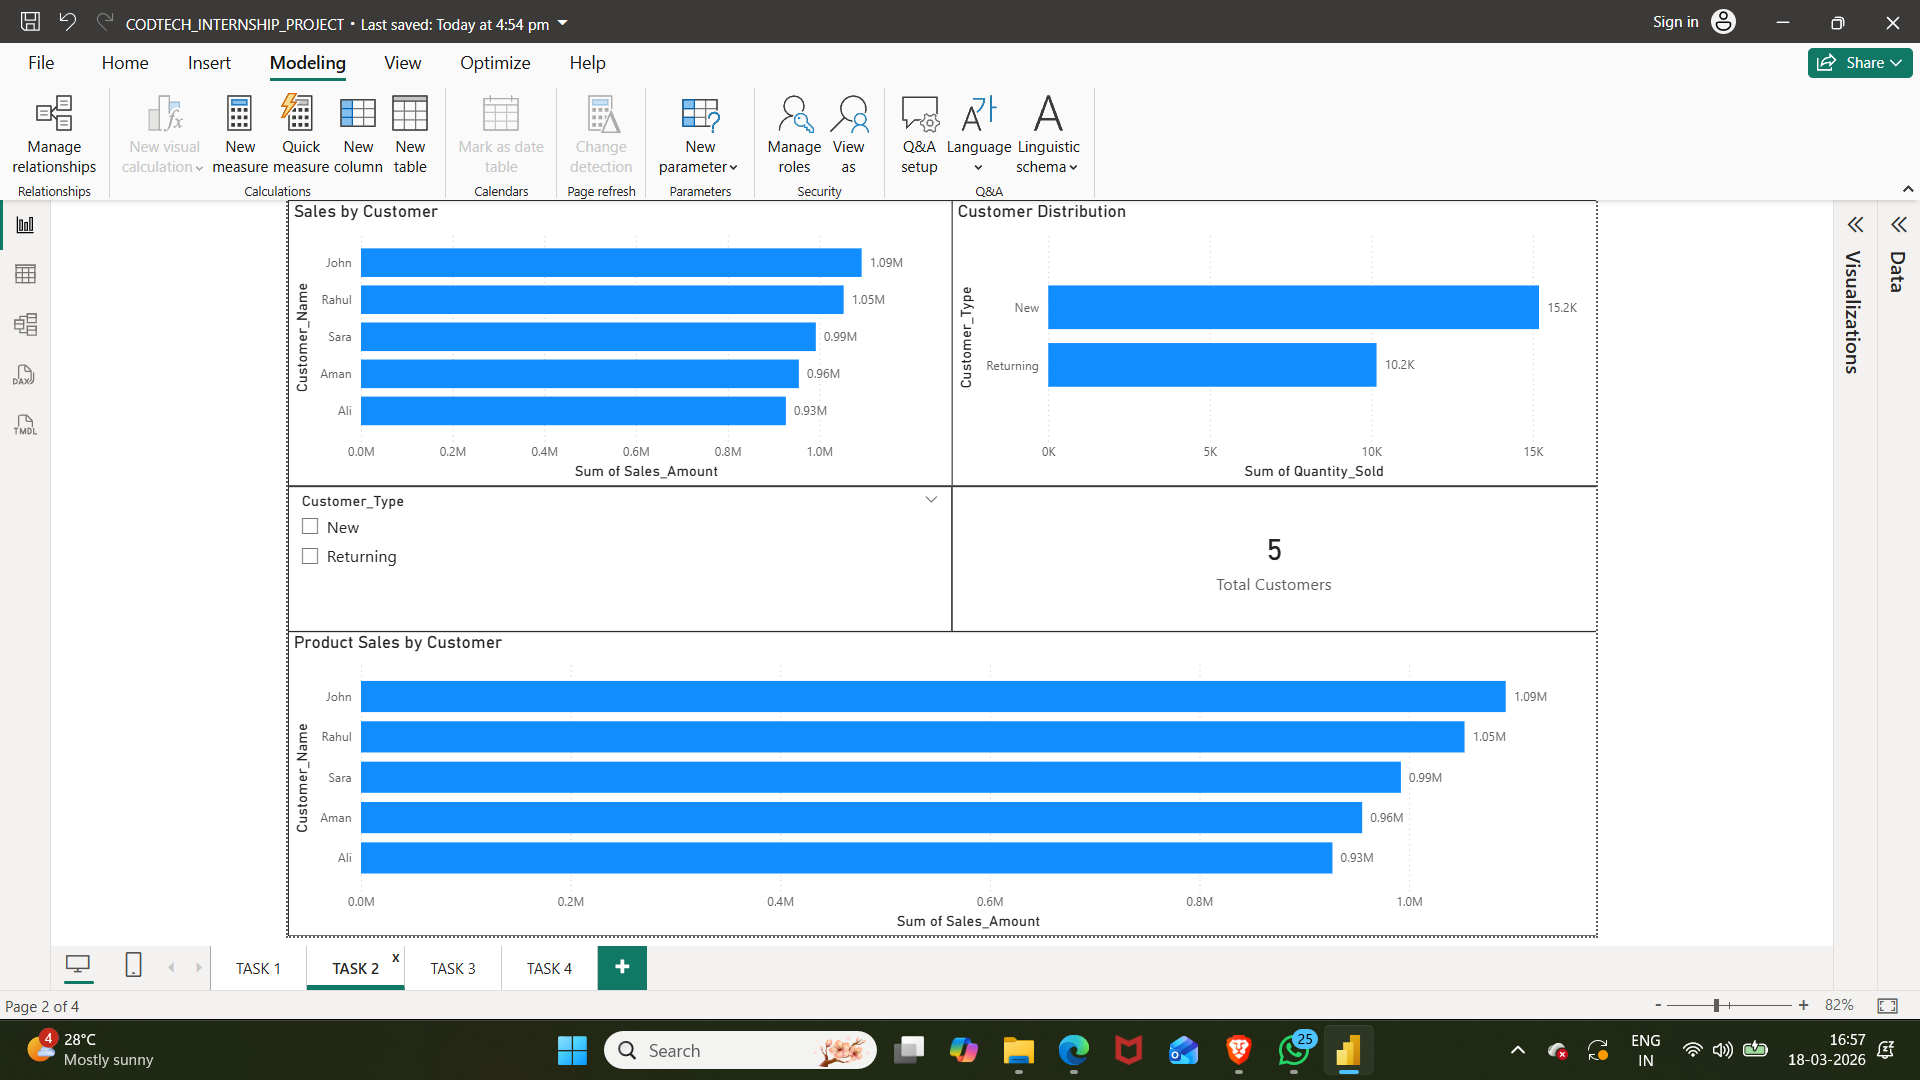

The dashboard page shown, as its layout file describes it:
{"tool":"powerbi","page":{"name":"TASK 2","canvas":[1280,720],"ordinal":1},"visuals":[{"type":"clusteredBarChart","title":"Sales by Customer","fields":{"Y":["Sum(sales_data.Sales_Amount)"],"Category":["Sheet1.Customer_Name"]},"box":[0,0,650.4,280],"z":0},{"type":"clusteredBarChart","title":"Customer Distribution","fields":{"Category":["Sheet1.Customer_Type"],"Y":["Sum(sales_data.Quantity_Sold)"]},"box":[649.3,0,631.2,280],"z":1000},{"type":"barChart","title":"Product Sales by Customer ","fields":{"Y":["Sum(sales_data.Sales_Amount)"],"Category":["Sheet1.Customer_Name"]},"box":[0,422.3,1280.5,298.1],"z":2000},{"type":"slicer","fields":{"Values":["Sheet1.Customer_Type"]},"box":[0,280,649.3,142.3],"z":3000},{"type":"card","fields":{"Values":["Sheet1.Total Customers"]},"box":[649.3,280,631.2,142.3],"z":4000}]}

Visuals, with their boxes on the page's 1280x720 design canvas (x1, y1, x2, y2). These are canvas units, not pixel positions in the 1920x1080 screenshot, which may show the page scaled, cropped or inside an application window:
"Sales by Customer" clusteredBarChart: select_region(0, 0, 650, 280)
"Customer Distribution" clusteredBarChart: select_region(649, 0, 1280, 280)
"Product Sales by Customer " barChart: select_region(0, 422, 1280, 720)
slicer - Sheet1.Customer_Type: select_region(0, 280, 649, 422)
card - Sheet1.Total Customers: select_region(649, 280, 1280, 422)
